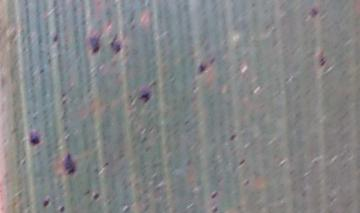tarspot: (61, 152, 77, 176), (25, 131, 44, 148), (107, 37, 123, 56), (89, 34, 101, 55), (137, 88, 152, 103), (316, 52, 327, 70), (91, 190, 102, 204), (196, 61, 205, 77), (50, 31, 59, 47), (55, 202, 68, 213), (309, 5, 318, 20), (228, 131, 238, 144), (40, 197, 51, 208), (209, 190, 219, 200), (211, 203, 220, 213)
